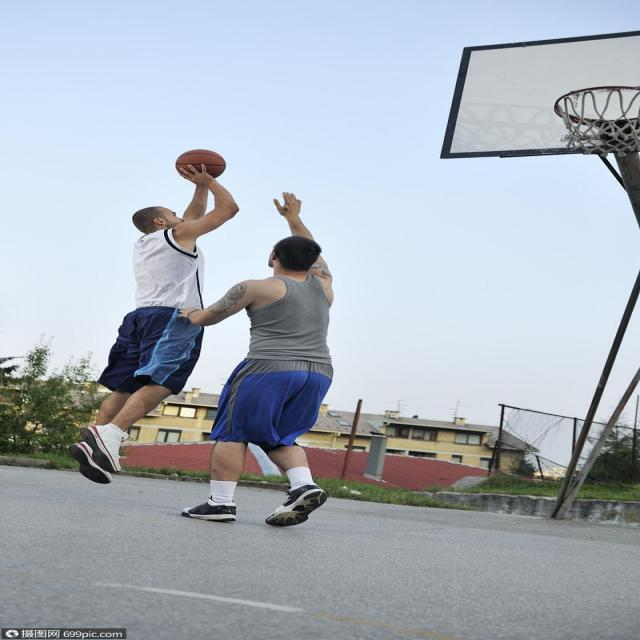rim: (178, 149, 230, 180)
